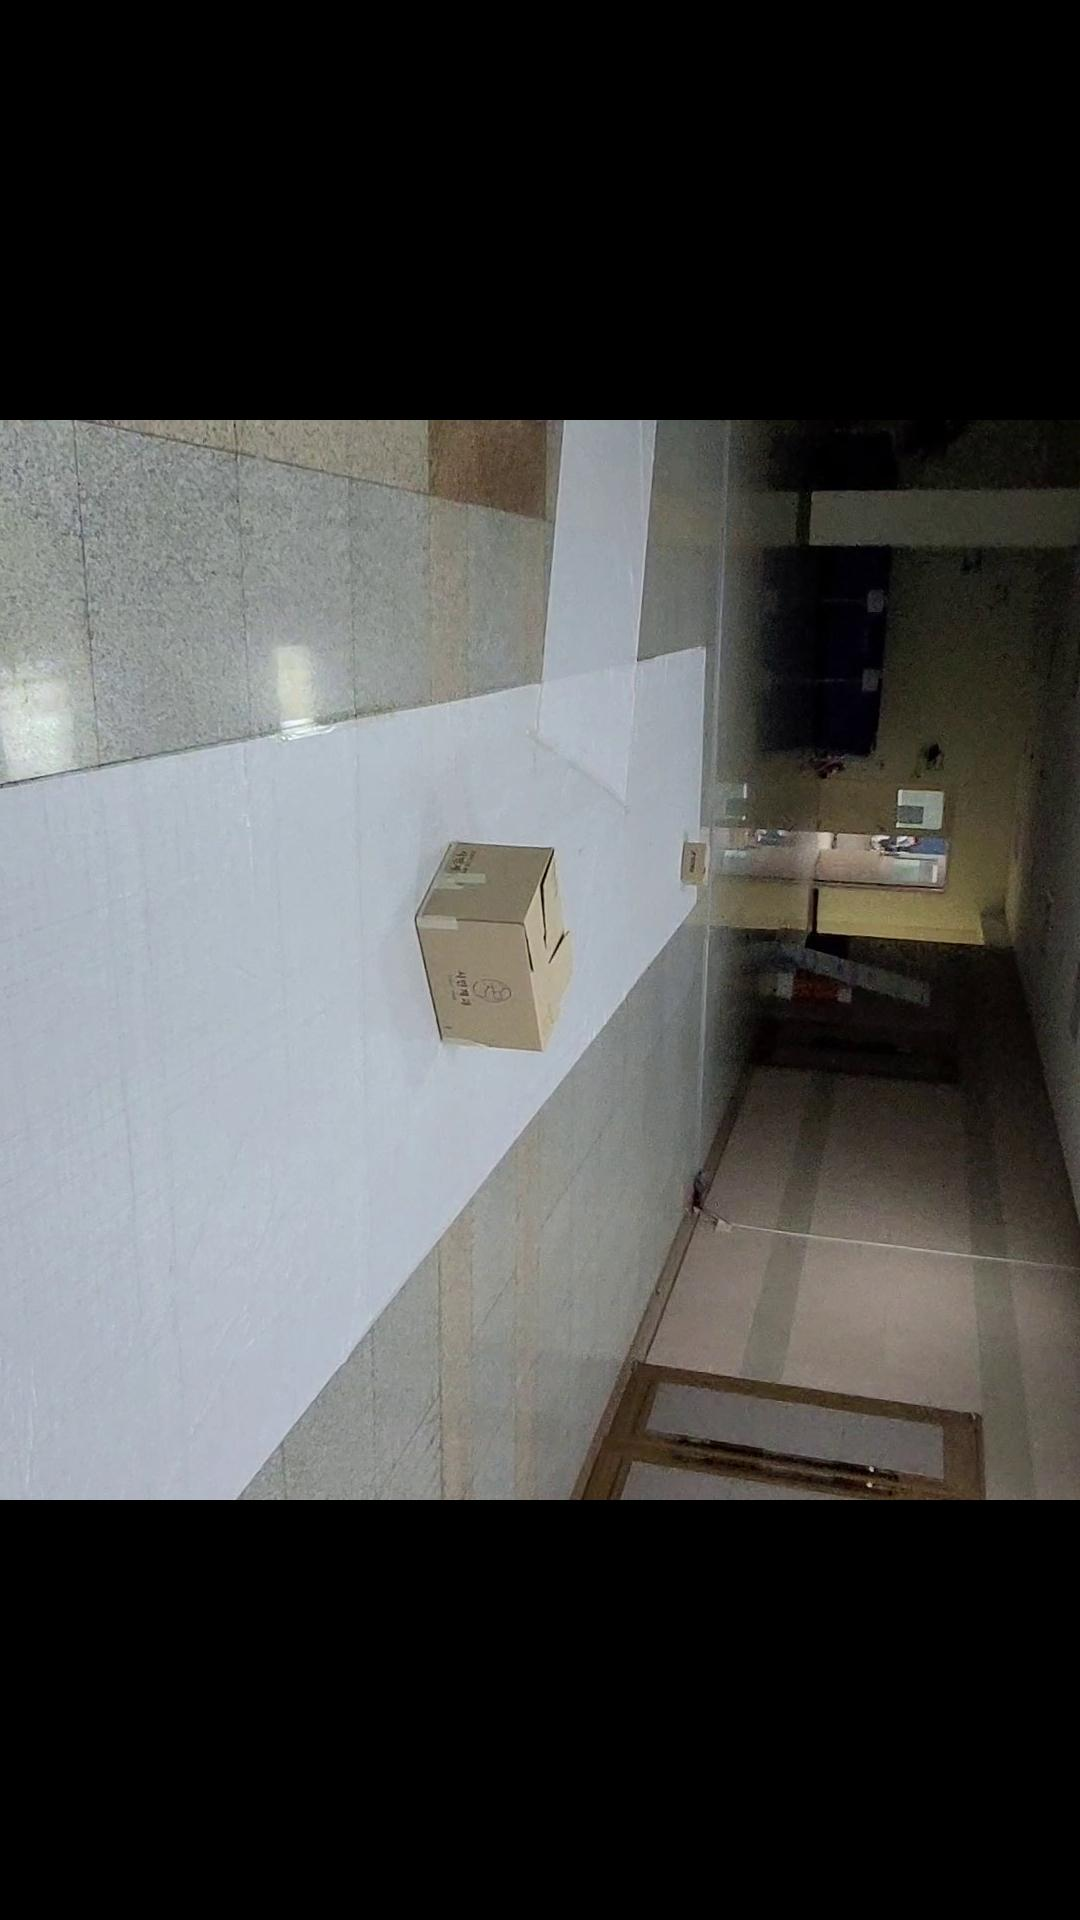Box: (392, 822, 612, 1085), (661, 816, 723, 899)
